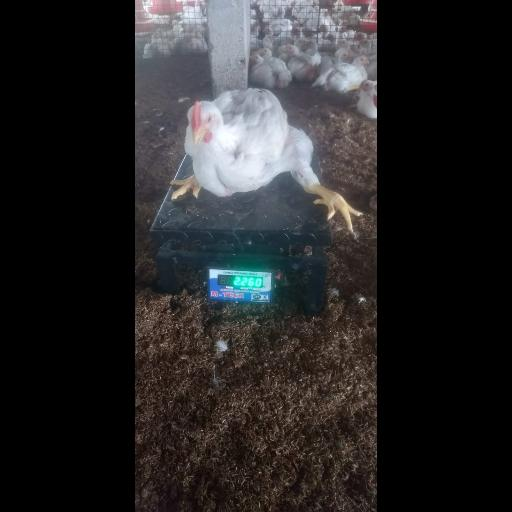chick: (171, 89, 364, 230)
